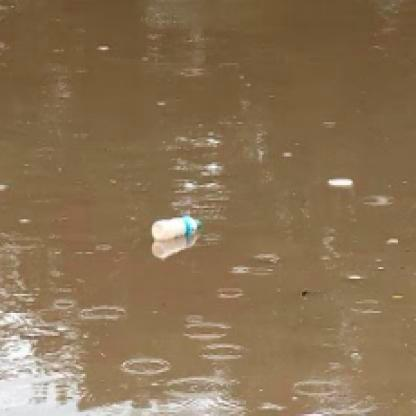Plastic: (150, 213, 202, 241)
